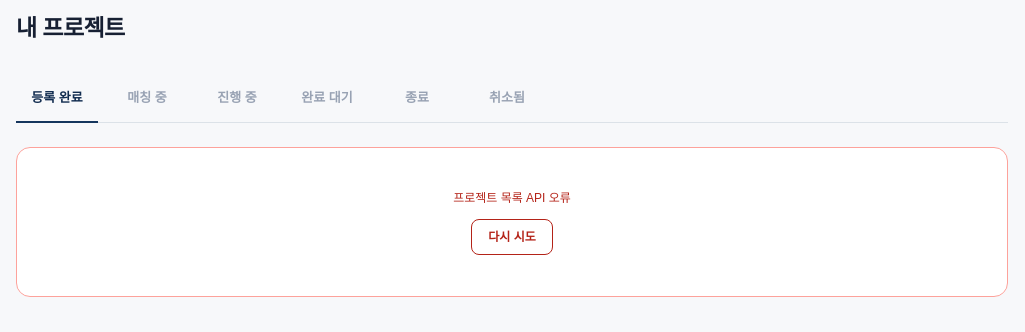
Test: ClientProjects › 조회 실패 시 오류와 재시도를 제공한다
Expected: the message shows "프로젝트 목록 API 오류", [453, 190, 571, 204]
Click the button "다시 시도": click(512, 236) [471, 218, 553, 254]
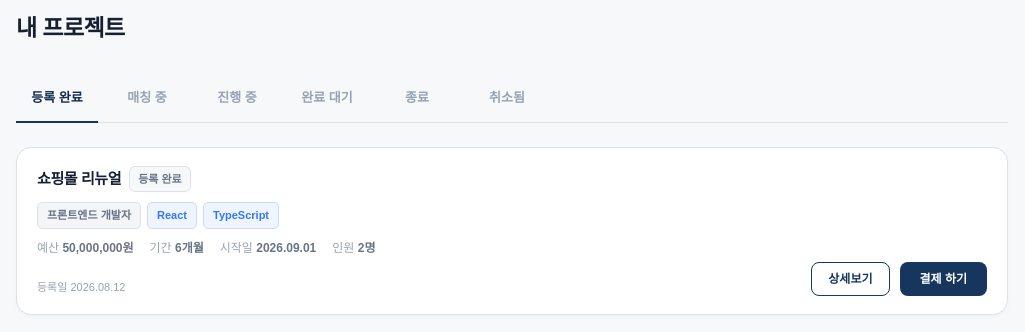
Now the heading "쇼핑몰 리뉴얼" is shown, box [37, 168, 121, 190]
